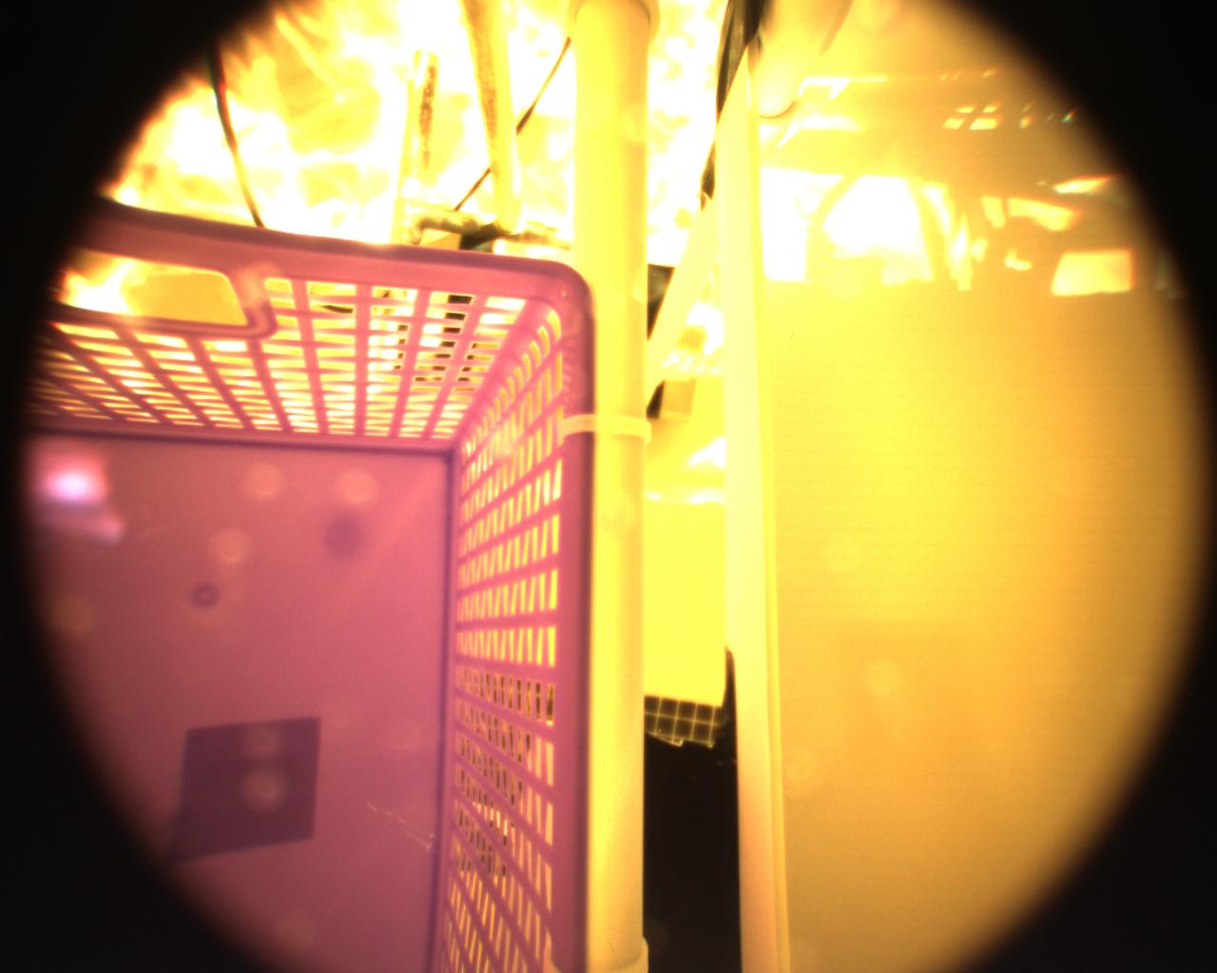coral-box-top: (652, 0, 1217, 973)
